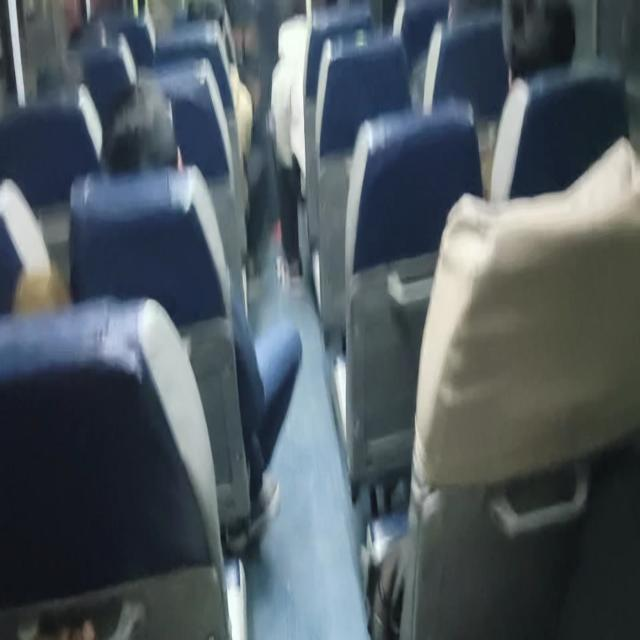person: (1, 1, 638, 637), (366, 0, 638, 637), (488, 0, 577, 202)
